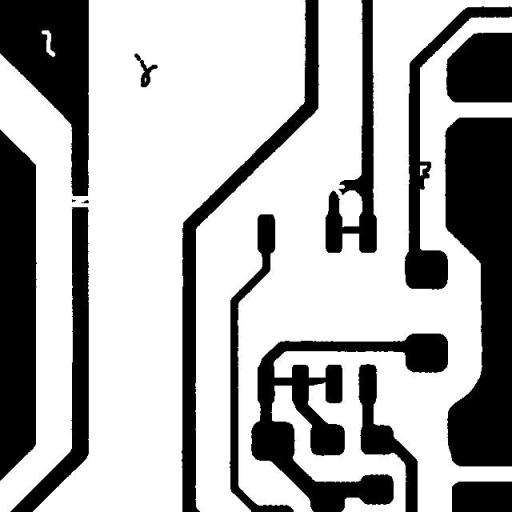copper: (126, 46, 165, 94)
open: (62, 188, 103, 214), (323, 177, 352, 206)
pin-hole: (34, 22, 62, 64)
short: (258, 369, 342, 393), (328, 218, 372, 241)
spur: (410, 154, 438, 196)
